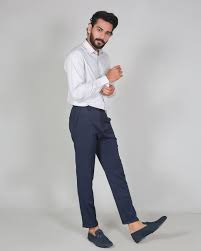F_dress pants: (63, 103, 145, 224)
F_shirt: (54, 37, 126, 110)
